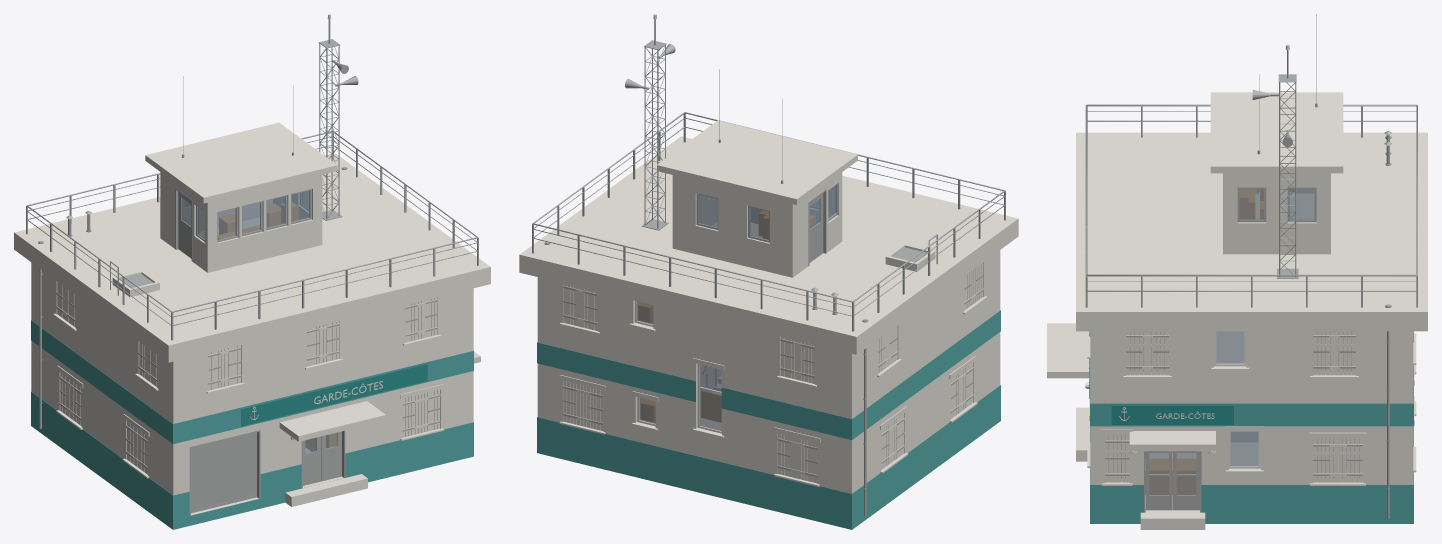
Rendered from souffleur_h04.glb.
3 renders of one model, left to right at view 1: azimuth 30°, elevation 25°; view 2: azimuth 150°, elevation 25°; view 3: azimuth 270°, elevation 25°, orthographic. The views are drawn at different scales.
Visible parts, largest first — view 1: Slab_Roof, Walls_OG, Arch_new_paint_teal_worn, Walls_EG, Arch_concrete_cast, Arch_render_spalled_old, Arch_shutter_paint, Arch_steel_painted_worn, DoorRoll_02, steel_painted_worn, sign_garde_cotes_front, Arch_glass (+8 smaller); view 2: Slab_Roof, Arch_new_paint_teal_worn, Walls_OG, Walls_EG, Arch_concrete_cast, Arch_render_spalled_old, Arch_shutter_paint, steel_painted_worn, Arch_steel_painted_worn, Arch_glass, steel_bare_rusty, Arch_steel_bare_rusty (+5 smaller); view 3: Slab_Roof, Walls_OG, Arch_concrete_cast, Arch_new_paint_teal_worn, Walls_EG, Arch_shutter_paint, Arch_render_spalled_old, Arch_glass, steel_painted_worn, Arch_steel_painted_worn, sign_garde_cotes_side, steel_bare_rusty (+11 smaller).
Part boxes in pixels (x1=…): Slab_Roof: x1=14, y1=154, x2=490, y2=362; Walls_OG: x1=31, y1=262, x2=473, y2=423; Arch_new_paint_teal_worn: x1=31, y1=320, x2=473, y2=529; Walls_EG: x1=31, y1=340, x2=473, y2=495; Arch_concrete_cast: x1=53, y1=122, x2=480, y2=478; Arch_render_spalled_old: x1=160, y1=172, x2=322, y2=272; Arch_shutter_paint: x1=57, y1=281, x2=440, y2=474; Arch_steel_painted_worn: x1=26, y1=131, x2=478, y2=515; DoorRoll_02: x1=191, y1=432, x2=256, y2=513; steel_painted_worn: x1=26, y1=131, x2=478, y2=340; sign_garde_cotes_front: x1=241, y1=363, x2=427, y2=426; Arch_glass: x1=186, y1=190, x2=309, y2=239; Slab_Roof: x1=519, y1=136, x2=1018, y2=354; Arch_new_paint_teal_worn: x1=537, y1=310, x2=1000, y2=529; Walls_OG: x1=537, y1=250, x2=1000, y2=418; Walls_EG: x1=537, y1=332, x2=1000, y2=493; Arch_concrete_cast: x1=559, y1=120, x2=987, y2=486; Arch_render_spalled_old: x1=672, y1=172, x2=842, y2=277; Arch_shutter_paint: x1=563, y1=262, x2=983, y2=483; steel_painted_worn: x1=532, y1=112, x2=1005, y2=390; Arch_steel_painted_worn: x1=532, y1=112, x2=1005, y2=373; Arch_glass: x1=637, y1=185, x2=835, y2=430; steel_bare_rusty: x1=641, y1=19, x2=668, y2=230; Arch_steel_bare_rusty: x1=563, y1=274, x2=983, y2=477; Slab_Roof: x1=1076, y1=132, x2=1427, y2=331; Walls_OG: x1=1090, y1=331, x2=1413, y2=403; Arch_concrete_cast: x1=1047, y1=92, x2=1416, y2=485; Arch_new_paint_teal_worn: x1=1090, y1=331, x2=1413, y2=523; Walls_EG: x1=1090, y1=426, x2=1413, y2=484; Arch_shutter_paint: x1=1104, y1=331, x2=1362, y2=482; Arch_render_spalled_old: x1=1223, y1=173, x2=1330, y2=254; Arch_glass: x1=1108, y1=188, x2=1359, y2=479; steel_painted_worn: x1=1085, y1=105, x2=1417, y2=307; Arch_steel_painted_worn: x1=1085, y1=104, x2=1417, y2=512; sign_garde_cotes_side: x1=1111, y1=405, x2=1233, y2=424; steel_bare_rusty: x1=1277, y1=50, x2=1298, y2=278.
Size of the model in its own units: 12.3 by 13.73 by 10.6.
